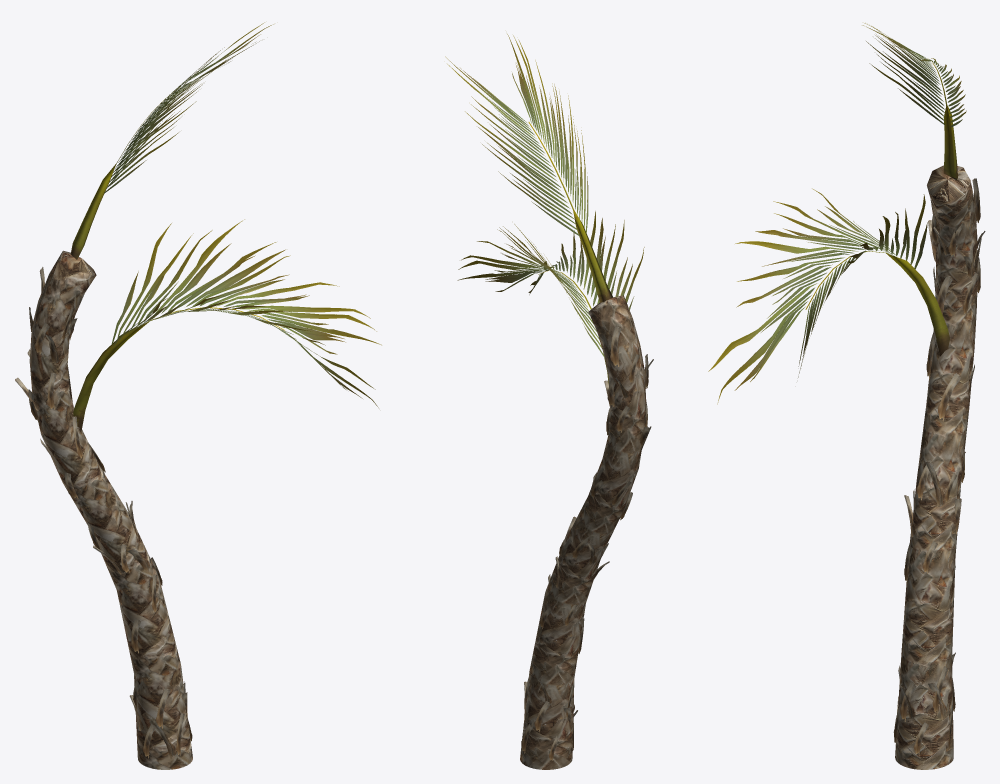
The model's file is Palmninety.obj.
The picture shows the model from 3 angles, left to right: view 1: azimuth 30°, elevation 25°; view 2: azimuth 150°, elevation 25°; view 3: azimuth 270°, elevation 25°; orthographic projection. The views are drawn at different scales.
Parts seen in each view (by area): view 1: palm07, curly palm leaf, barkpalm, frond stem; view 2: palm07, curly palm leaf, barkpalm, frond stem; view 3: palm07, curly palm leaf, barkpalm, frond stem.
Part boxes in pixels (<box>): palm07: <box>29,250,192,769</box>; curly palm leaf: <box>104,22,381,407</box>; barkpalm: <box>15,267,192,758</box>; frond stem: <box>70,163,149,430</box>; palm07: <box>520,295,646,769</box>; curly palm leaf: <box>445,34,644,357</box>; barkpalm: <box>521,325,653,760</box>; frond stem: <box>572,207,612,383</box>; palm07: <box>895,165,977,769</box>; curly palm leaf: <box>708,23,966,404</box>; barkpalm: <box>893,178,985,755</box>; frond stem: <box>886,104,957,356</box>.
Size of the model in its own units: 103 by 241 by 80.31.
